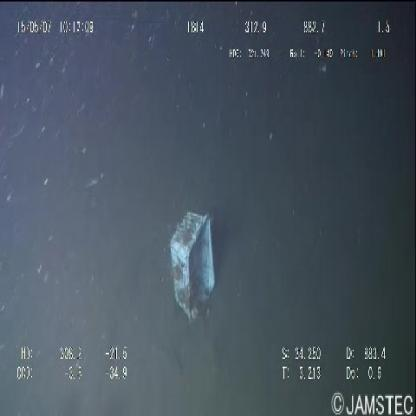Rác: (162, 196, 222, 326)
